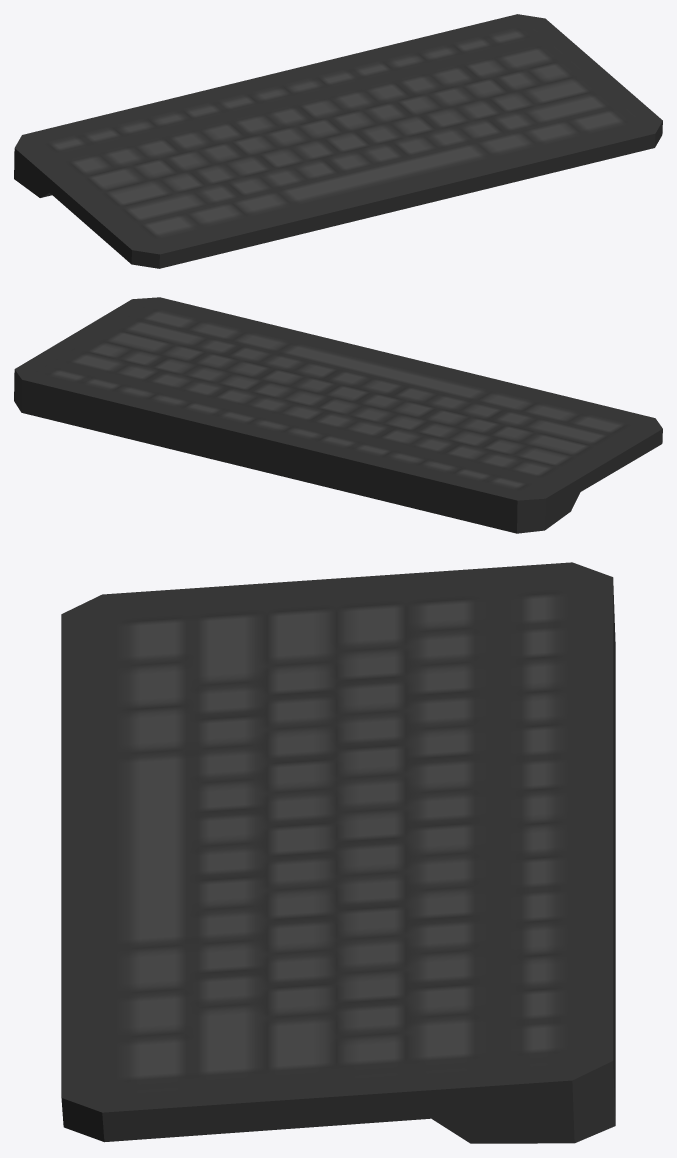
Rendered from SM_Props_Interior_Shop_Electronic_Keyboard_01.fbx.
3 views of the same model, one above another, from view 1: azimuth 30°, elevation 25°; view 2: azimuth 150°, elevation 25°; view 3: azimuth 270°, elevation 25° (orthographic). The views are drawn at different scales.
Parts seen in each view (by area): view 1: SM_Props_Interior_Shop_Electronic_Keyboard_01; view 2: SM_Props_Interior_Shop_Electronic_Keyboard_01; view 3: SM_Props_Interior_Shop_Electronic_Keyboard_01.
Boxes of the visible parts, x1,y1,x2,y2 form: SM_Props_Interior_Shop_Electronic_Keyboard_01: (14, 14, 662, 268); SM_Props_Interior_Shop_Electronic_Keyboard_01: (14, 297, 662, 533); SM_Props_Interior_Shop_Electronic_Keyboard_01: (61, 562, 615, 1143).
Bounding box in the file's own units: 30 × 1.8 × 13.56.
